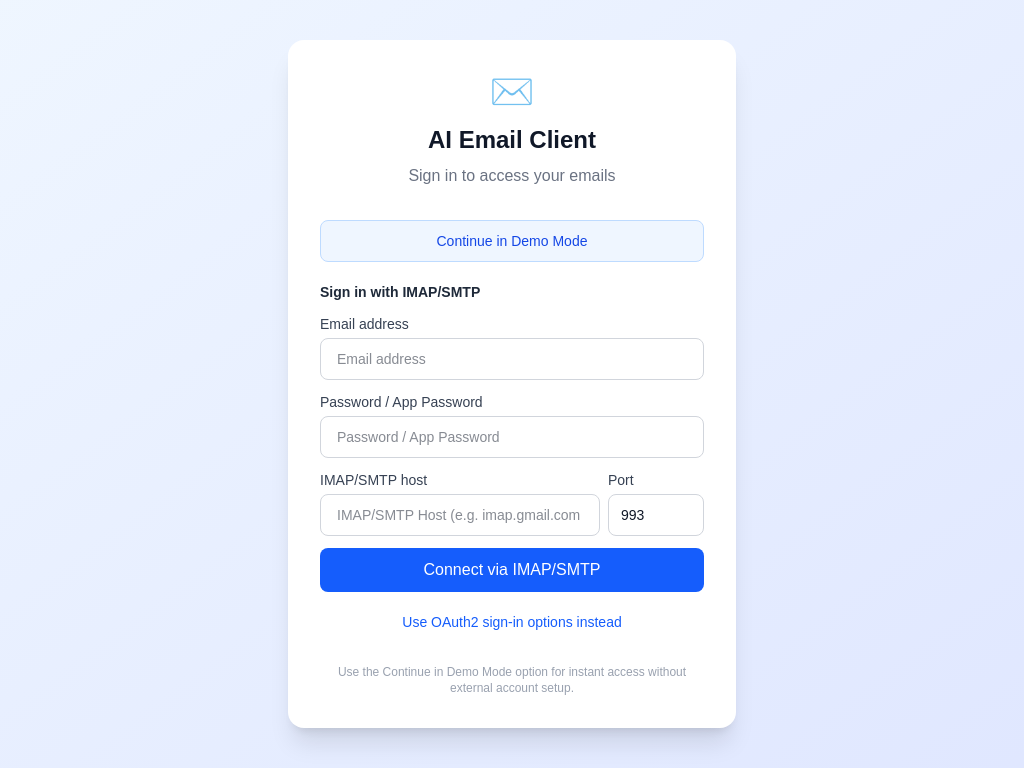
Test: LoginPage › shows a Gmail-specific app password hint on credentials failure
In the field labelled "Email address": (512, 359) [320,338,704,380], type "person@gmail.com"
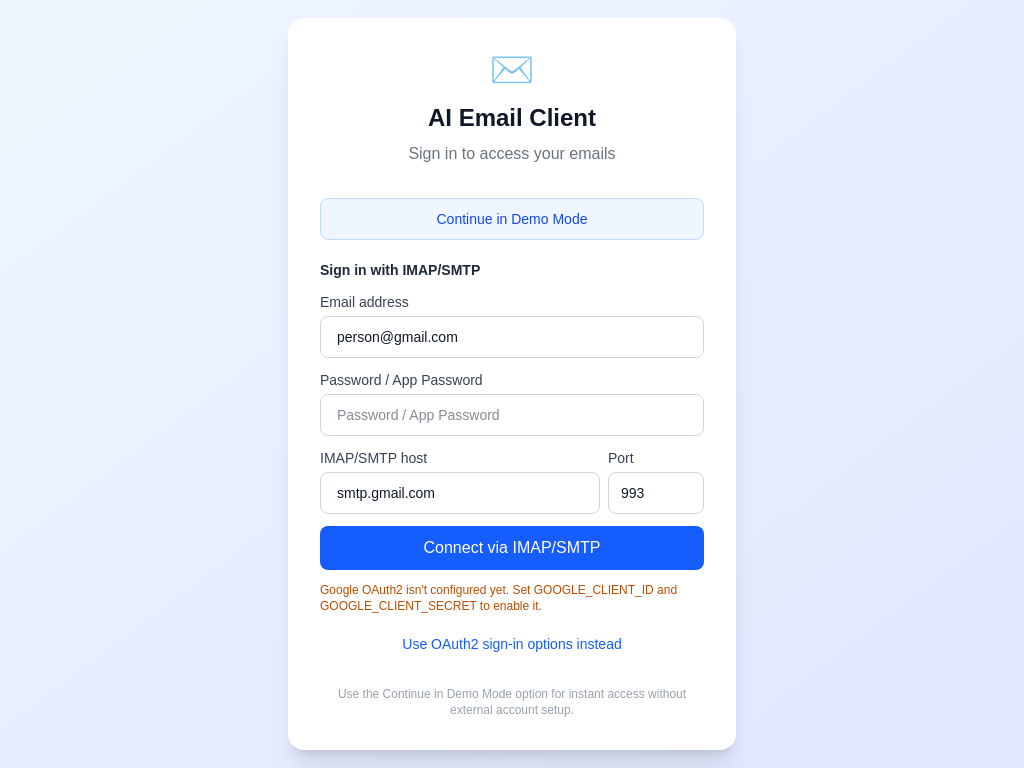
In the password field labelled "Password / App Password": (512, 415) [320,394,704,436], type "bad-password"
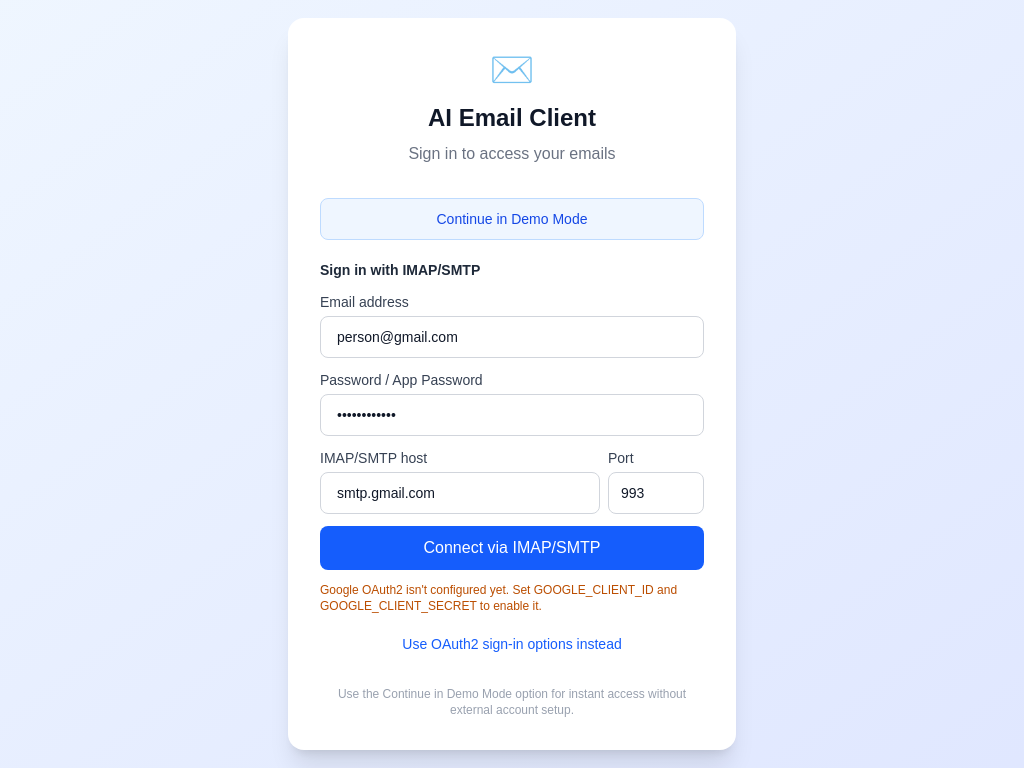
Click the button "Connect via IMAP/SMTP": (512, 548) [320,526,704,570]
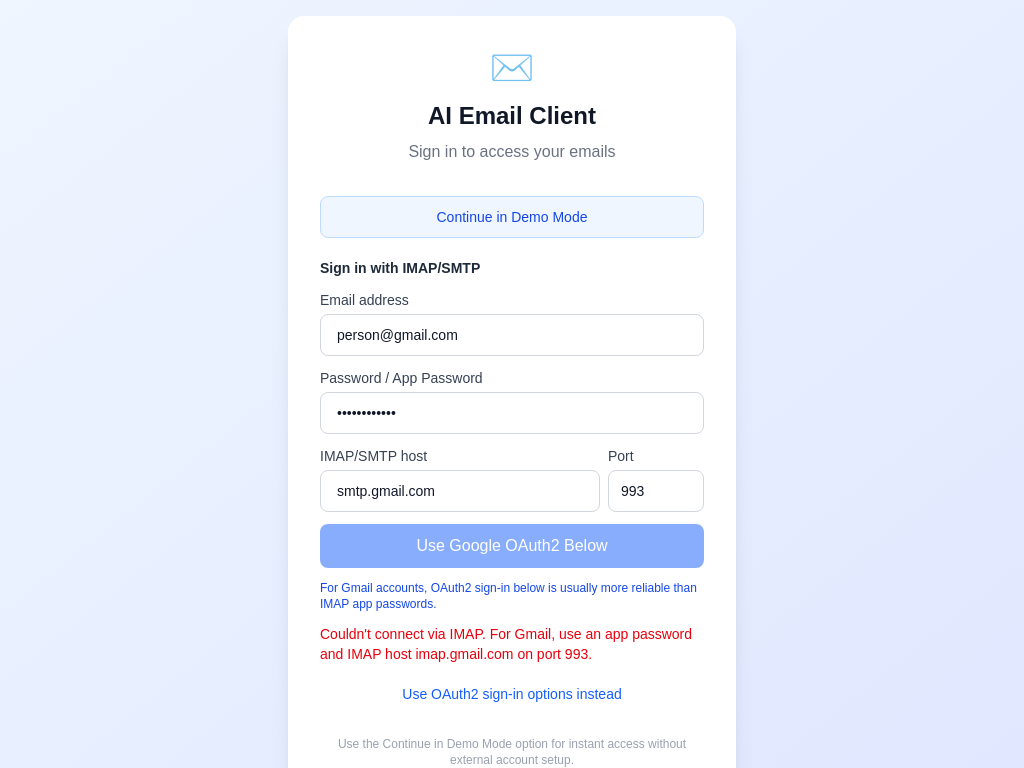
Expected: the message shows "For Gmail", [320,626,692,662]
Expected: the message shows "app password", [320,626,692,662]
Expected: the message shows "imap.gmail.com", [320,626,692,662]
